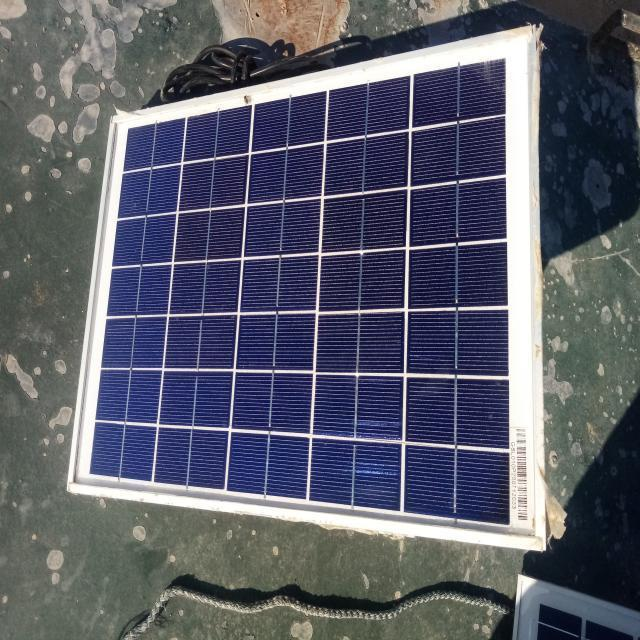Normal Solar Panel: (68, 26, 542, 551)
